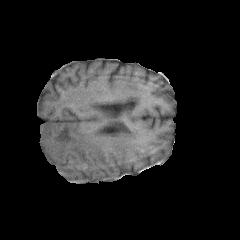glioma: (40, 96, 140, 175)
